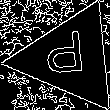P_S: (47, 31, 93, 85)
